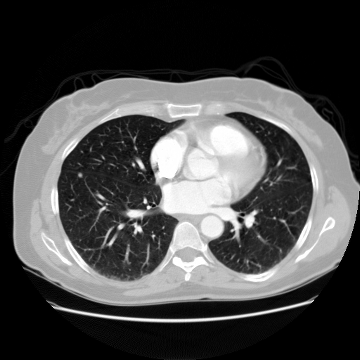nodule: (78, 173, 82, 177)
